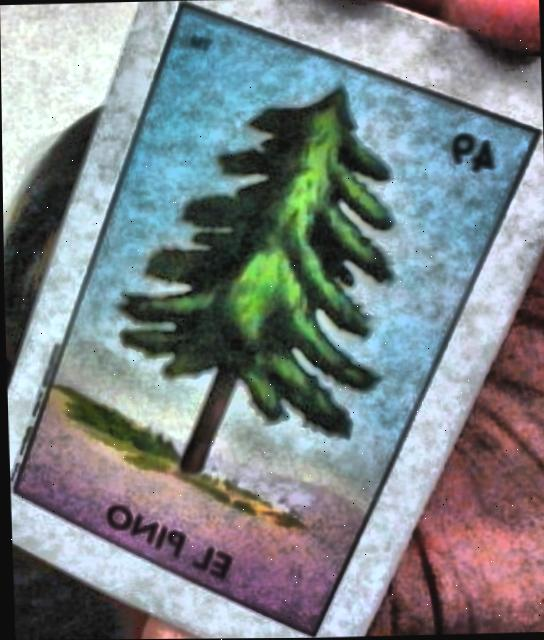El Pino: (10, 2, 529, 636)
